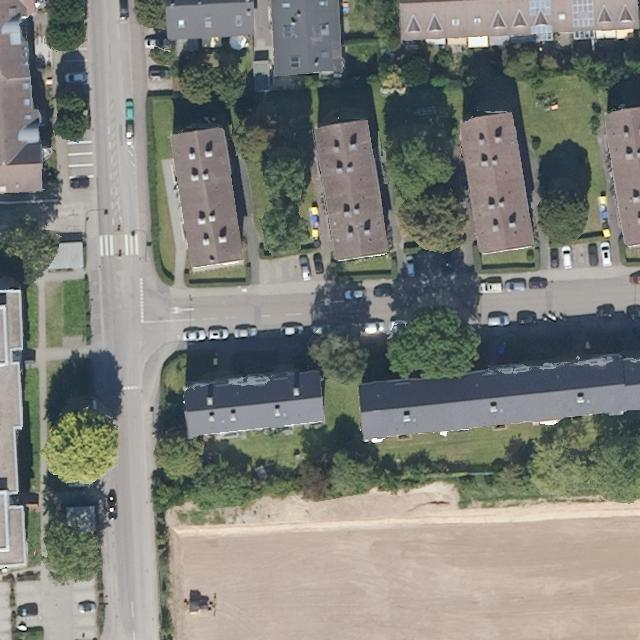PV: (32, 18, 582, 610), (571, 0, 595, 29), (531, 24, 553, 36)
